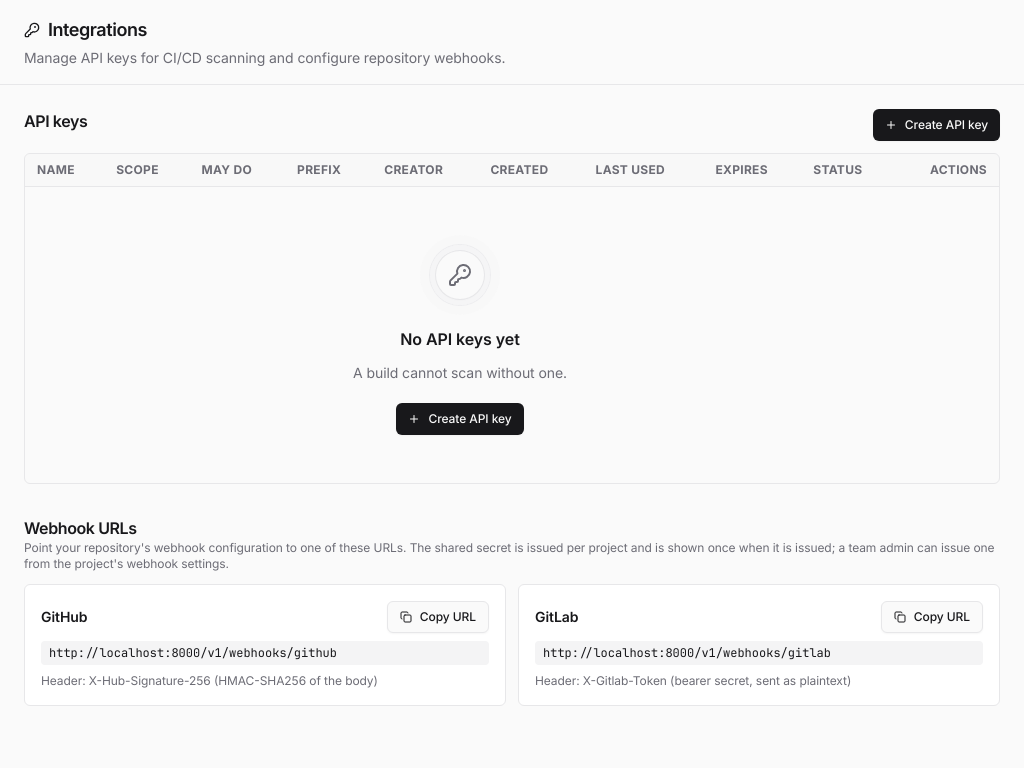
IntegrationsPage › blocks create submit when name is empty (no network)
Expected: the message "No API keys yet A build cannot scan without one. Create API key" is shown, [353, 235, 567, 435]
Click the button with test id "integrations-create-key": click(936, 125) [873, 109, 1000, 141]
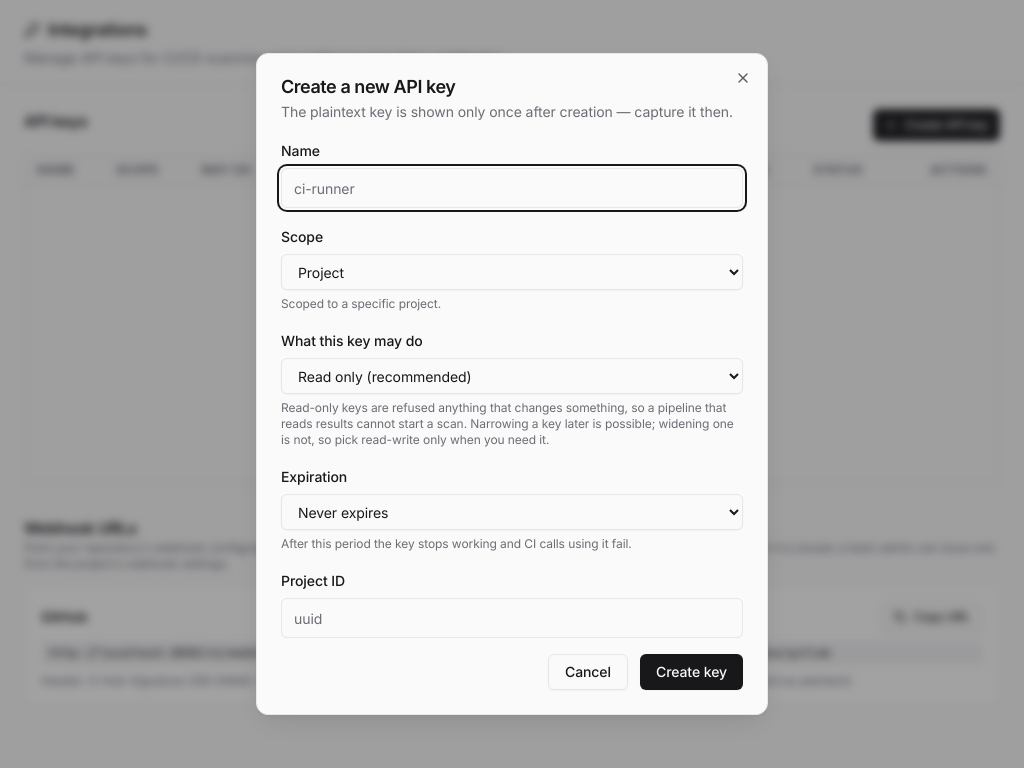
Click the button with test id "integrations-create-submit": click(692, 672) [640, 654, 743, 690]
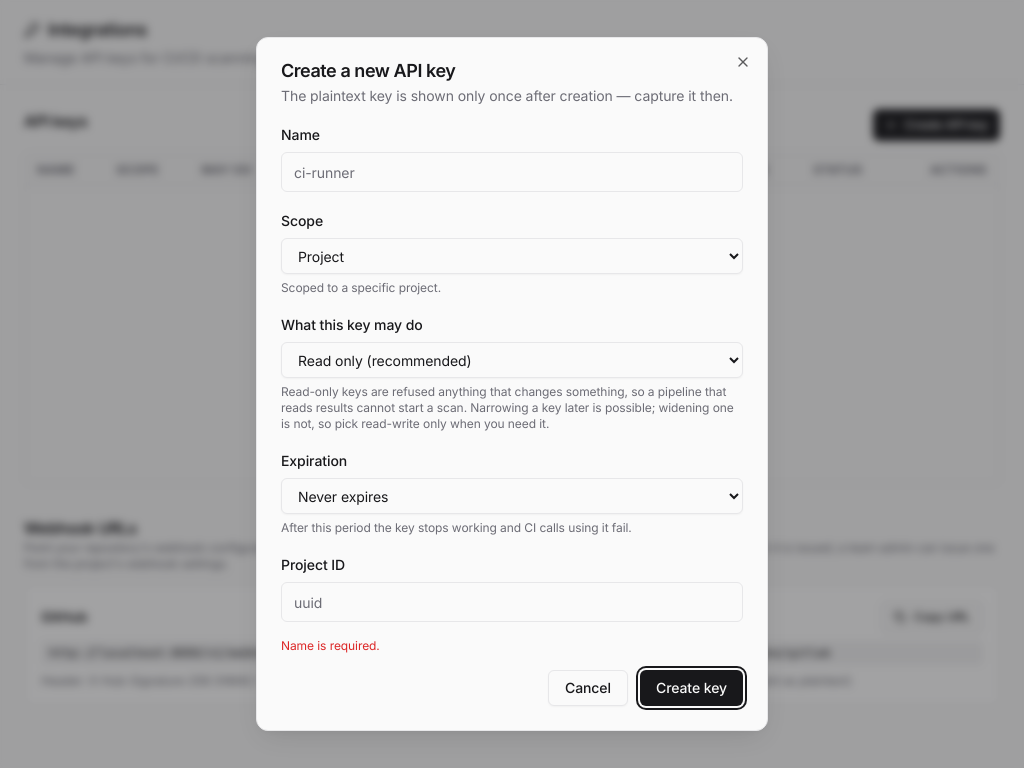
Result: the message "Name is required." is shown at [281, 638, 380, 653]
